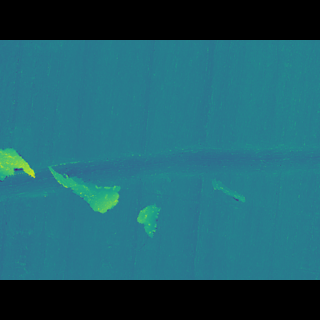Loch: (0, 145, 320, 196), (45, 163, 122, 201), (0, 146, 34, 176), (131, 191, 164, 221)
